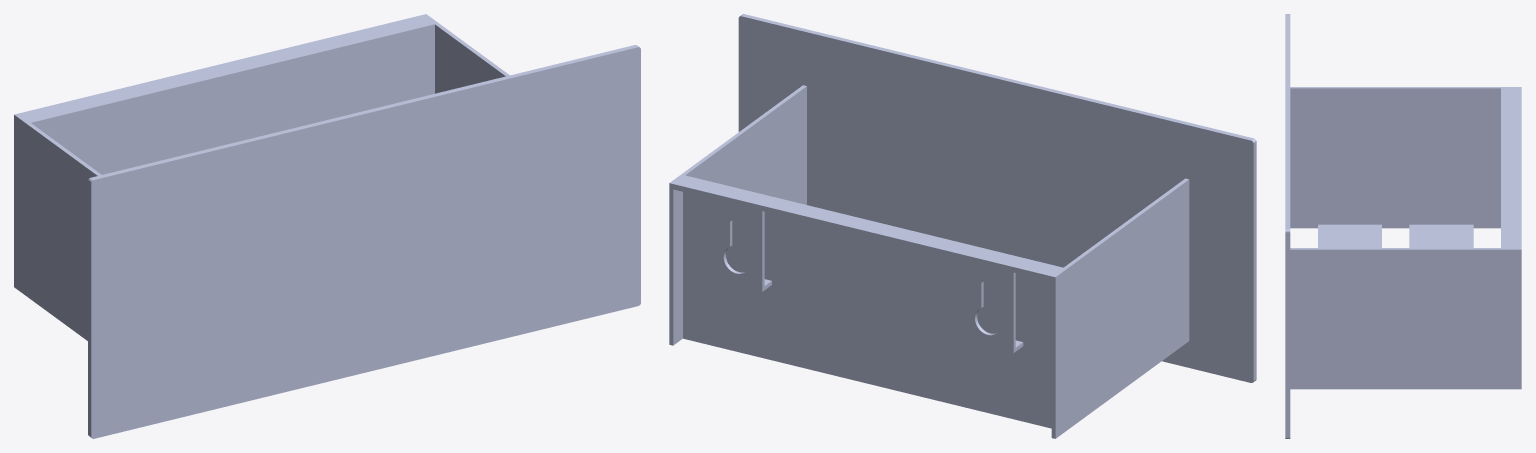
File: skyline-mono.4064f25b7d.glb
The picture shows the model from 3 angles, left to right: view 1: azimuth 30°, elevation 25°; view 2: azimuth 150°, elevation 25°; view 3: azimuth 270°, elevation 25°; orthographic projection. The views are drawn at different scales.
Parts seen in each view (by area): view 1: NAUO1; view 2: NAUO1; view 3: NAUO1.
Boxes of the visible parts, x1=… form: NAUO1: x1=14, y1=14, x2=640, y2=438; NAUO1: x1=669, y1=14, x2=1256, y2=438; NAUO1: x1=1285, y1=14, x2=1521, y2=438.
Bounding box in the file's own units: 0.2 × 0.09 × 0.092.
